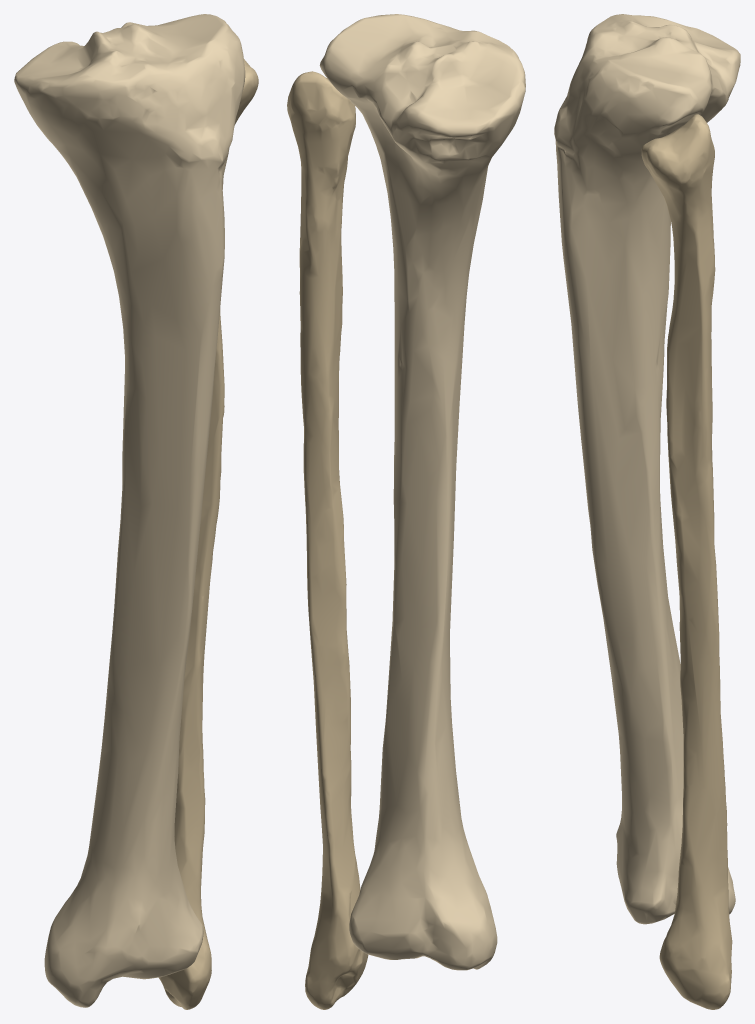
The model's file is l-shin.glb.
The picture shows the model from 3 angles, left to right: view 1: azimuth 30°, elevation 25°; view 2: azimuth 150°, elevation 25°; view 3: azimuth 270°, elevation 25°; orthographic projection. The views are drawn at different scales.
Parts seen in each view (by area): view 1: left-tibia, left-fibula; view 2: left-tibia, left-fibula; view 3: left-tibia, left-fibula.
Boxes of the visible parts, box(x1,y1,x2,y2) form: left-tibia: box(14, 14, 245, 1007); left-fibula: box(159, 59, 258, 1009); left-tibia: box(319, 14, 525, 970); left-fibula: box(287, 71, 368, 1009); left-tibia: box(554, 14, 740, 924); left-fibula: box(641, 114, 732, 1009).
Bounding box in the file's own units: 0.2188 × 0.9143 × 0.1647.
